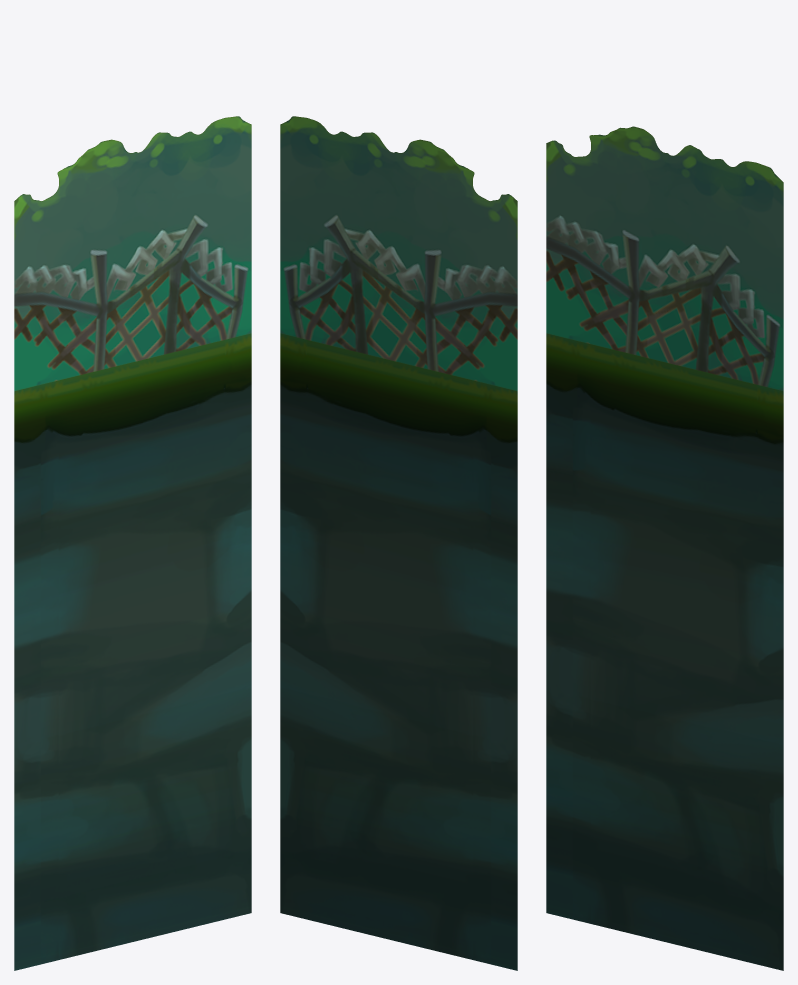
Rendered from 102103@skin.FBX.
3 views of the same model, side by side, from view 1: azimuth 30°, elevation 25°; view 2: azimuth 150°, elevation 25°; view 3: azimuth 330°, elevation 25° (orthographic).
Parts seen in each view (by area): view 1: body; view 2: body; view 3: body.
Boxes of the visible parts, x1,y1,x2,y2 form: body: (14, 116, 251, 970); body: (280, 116, 517, 970); body: (546, 126, 783, 970).
Bounding box in the file's own units: 30 × 109 × 1.53e-05.
